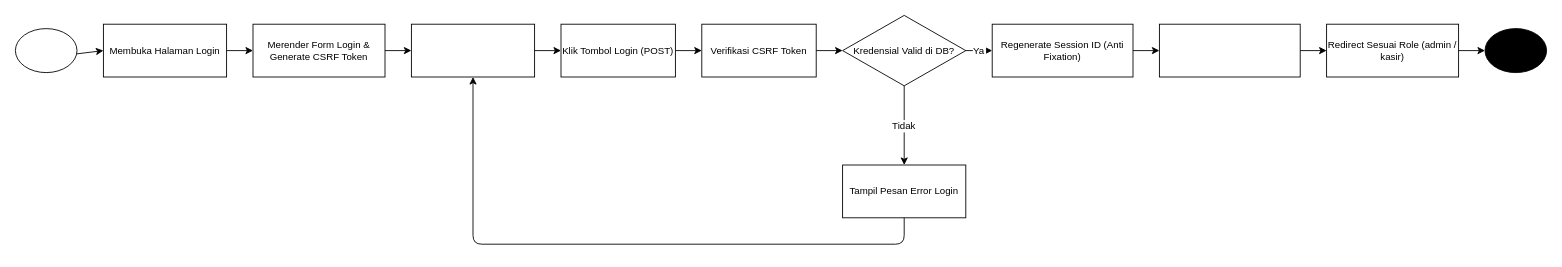
Image size: 1562x267. Some labels were removed from this diagram. Here are the shapes that lost their labels. From the top down, the centre of each, then its label:
At point 46,50: "START".
At point 473,50: "Input Username & Password".
At point 1229,50: "Set Session Variables (user_id, username, role)".
At point 1515,50: "END".
